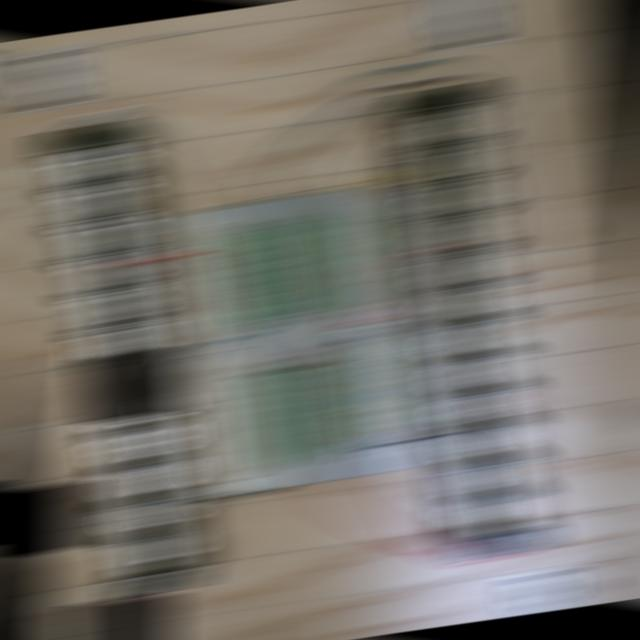Flathead_Block: (401, 82, 551, 559)
Phillips_Block: (43, 120, 198, 599)
Terminal_1: (348, 334, 403, 437), (330, 208, 385, 310)
Terminal_2: (271, 221, 327, 318), (264, 367, 319, 465), (291, 363, 346, 460), (214, 231, 268, 328), (243, 225, 297, 322)
